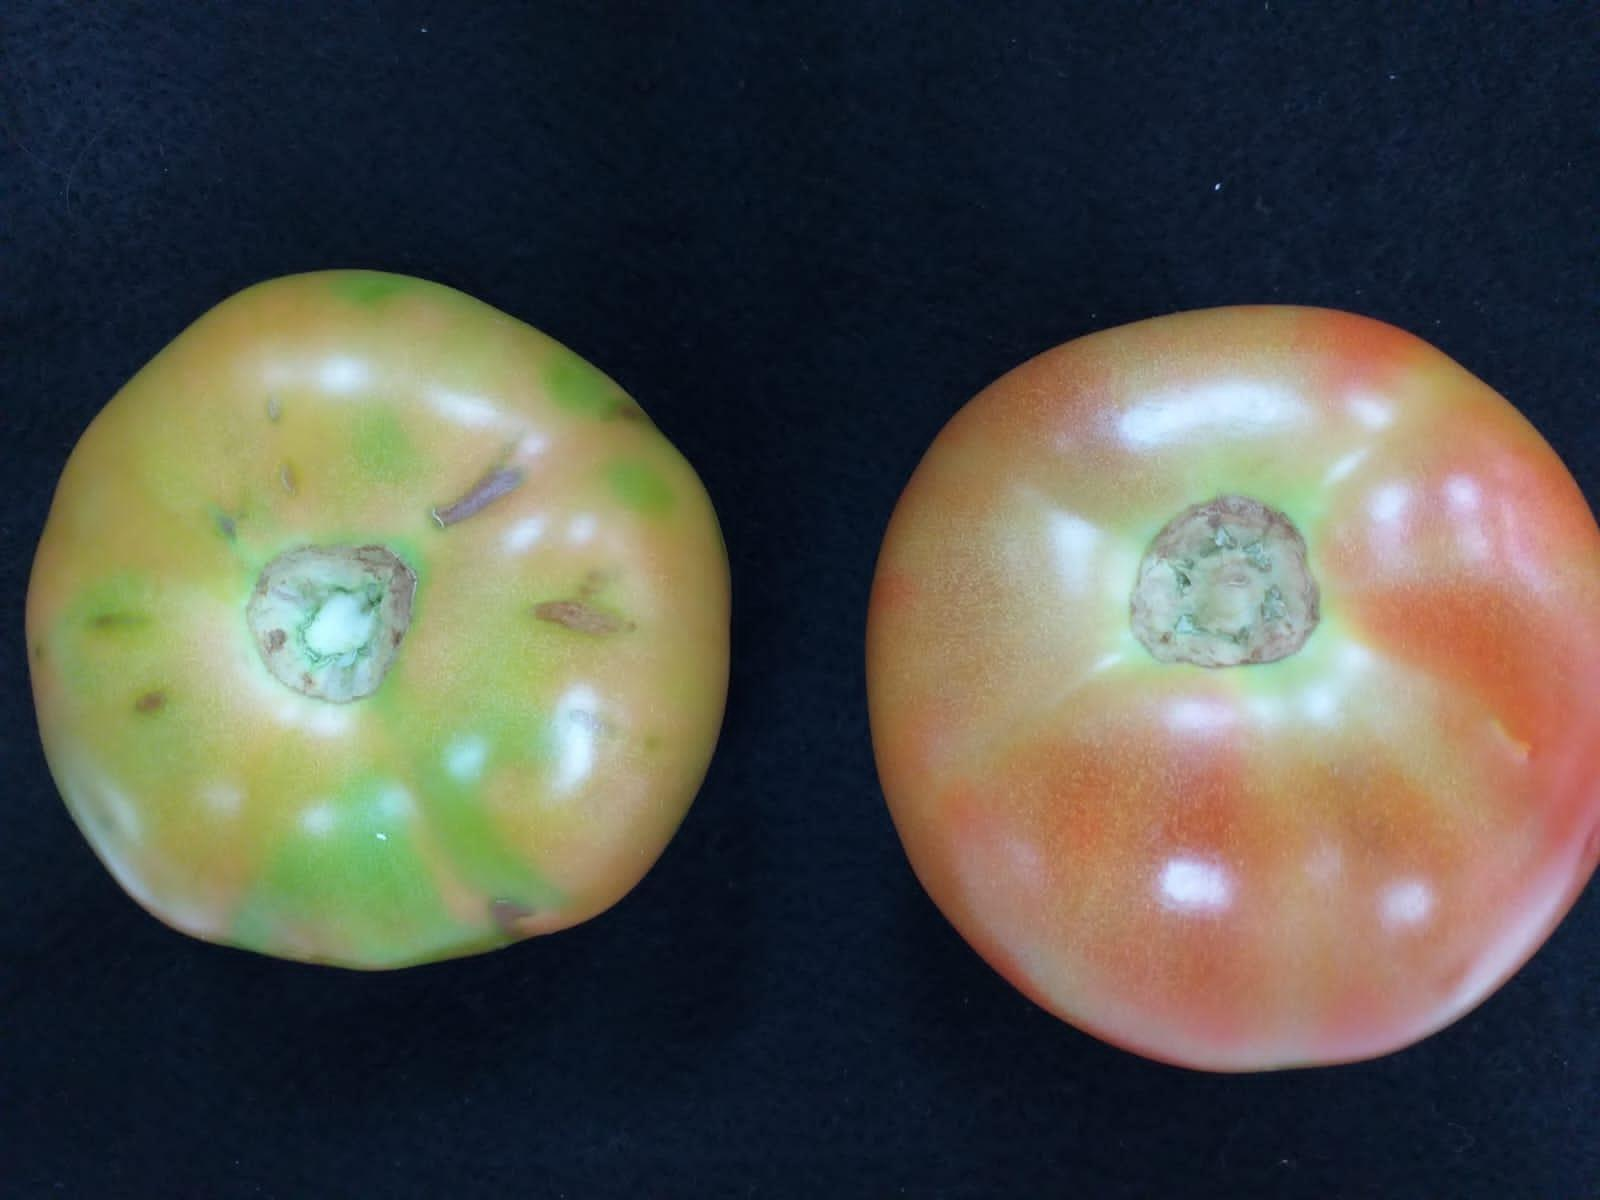Rugose tomato: (23, 268, 727, 969)
